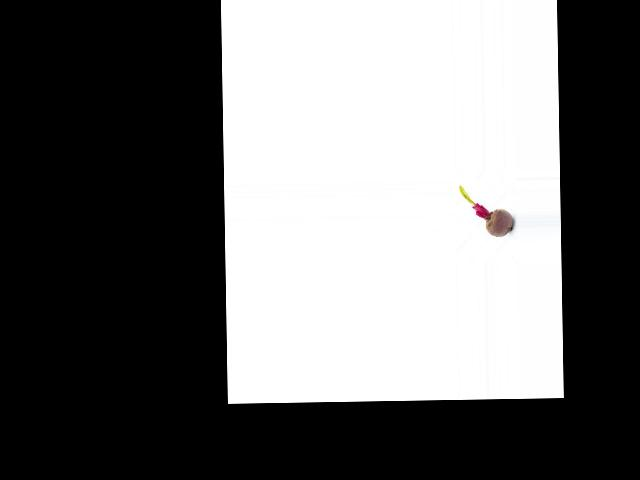beet: (459, 185, 513, 238)
